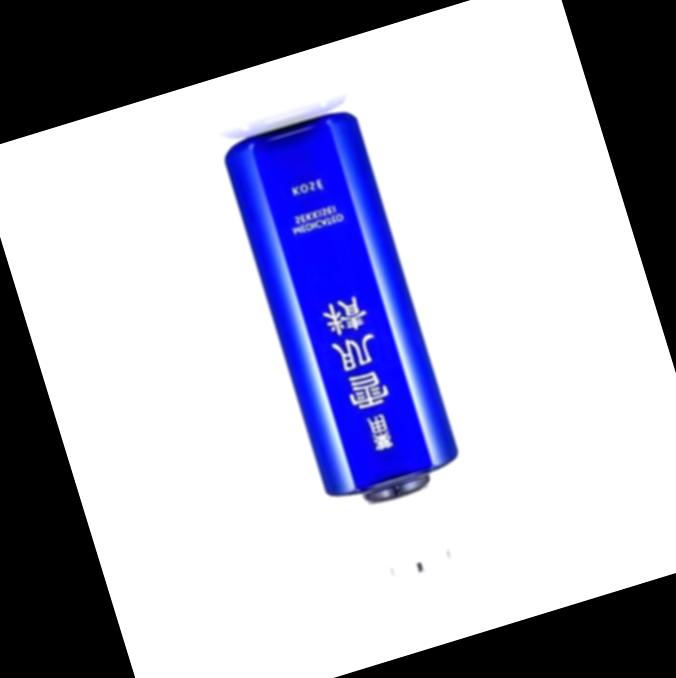cosmetic: (217, 102, 496, 589)
